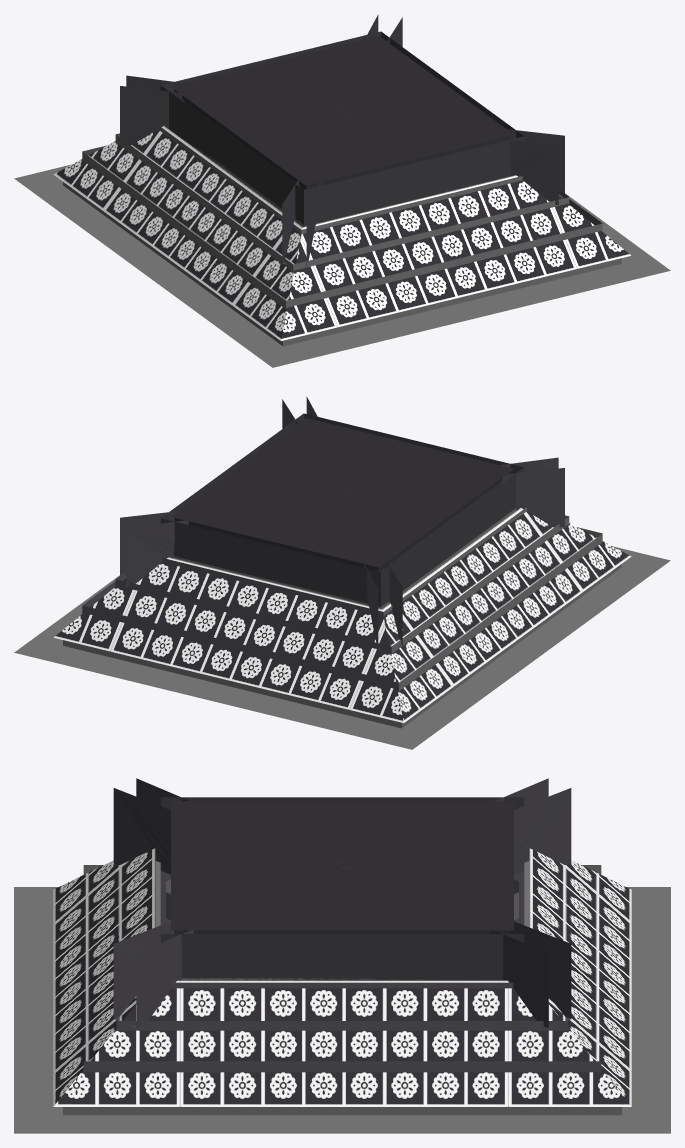
File: ROOFTEST.fbx
3 views of the same model, one above another, from view 1: azimuth 30°, elevation 25°; view 2: azimuth 150°, elevation 25°; view 3: azimuth 270°, elevation 25° (orthographic). The views are drawn at different scales.
Parts seen in each view (by area): view 1: Box001; view 2: Box001; view 3: Box001.
Boxes of the visible parts, box(x1,y1,x2,y2) form: Box001: box(14, 14, 670, 367); Box001: box(14, 396, 670, 749); Box001: box(14, 778, 670, 1133).
Size of the model in its own units: 3000 by 821 by 3375.
